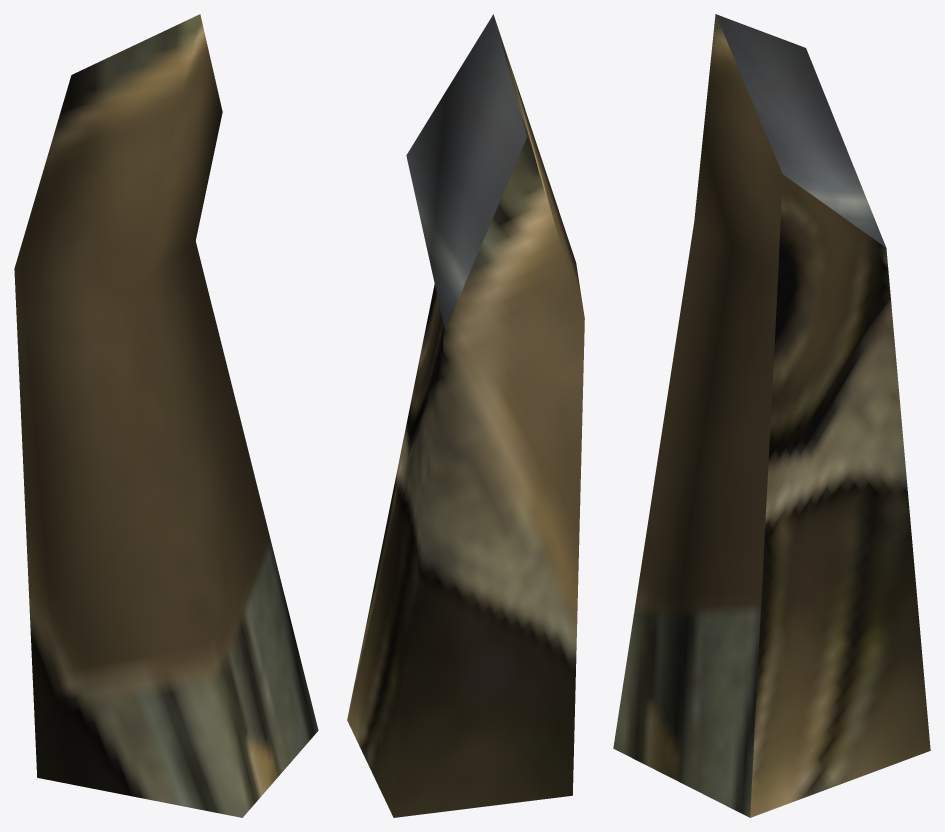
Rendered from GY_longgu007.fbx.
3 views of the same model, side by side, from view 1: azimuth 30°, elevation 25°; view 2: azimuth 150°, elevation 25°; view 3: azimuth 270°, elevation 25° (orthographic). The views are drawn at different scales.
Parts seen in each view (by area): view 1: GY_longgu007; view 2: GY_longgu007; view 3: GY_longgu007.
Part boxes in pixels (bbox=[...]): GY_longgu007: bbox=[14, 14, 318, 817]; GY_longgu007: bbox=[347, 14, 584, 817]; GY_longgu007: bbox=[613, 14, 930, 817].
Size of the model in its own units: 64.37 by 169 by 65.87.
